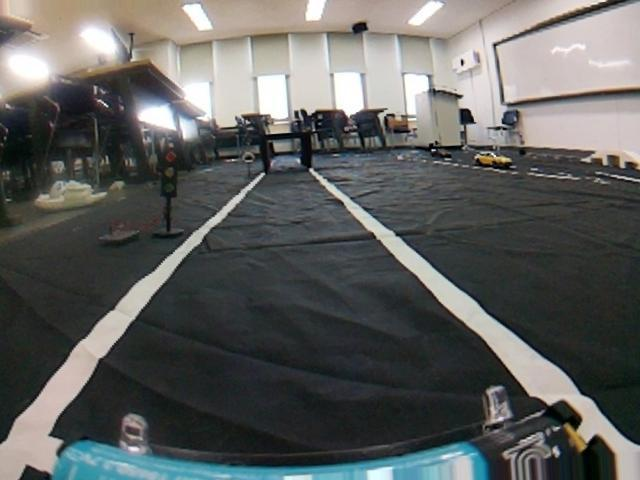red_light: (155, 139, 185, 205)
straight: (4, 249, 640, 475)
